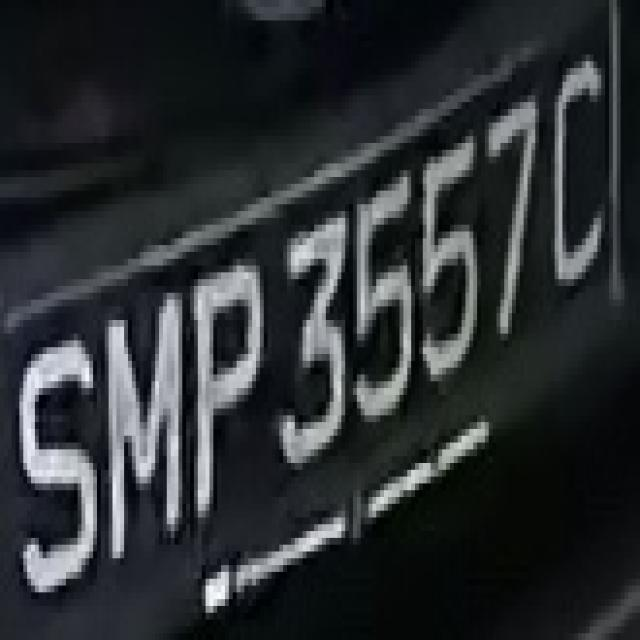3: (271, 211, 353, 477)
5: (415, 130, 485, 408), (353, 170, 419, 456)
7: (465, 102, 543, 347)
C: (539, 75, 613, 279)
M: (93, 272, 194, 579)
P: (182, 238, 272, 538)
S: (8, 320, 97, 606)
